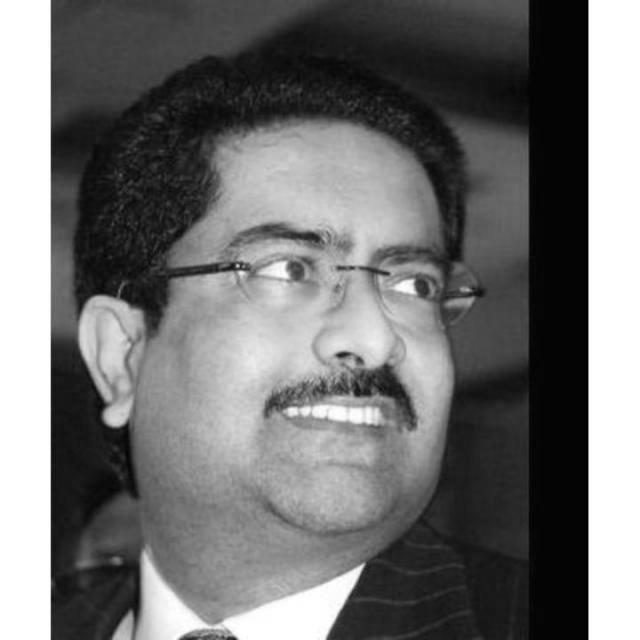real: (139, 132, 457, 542)
